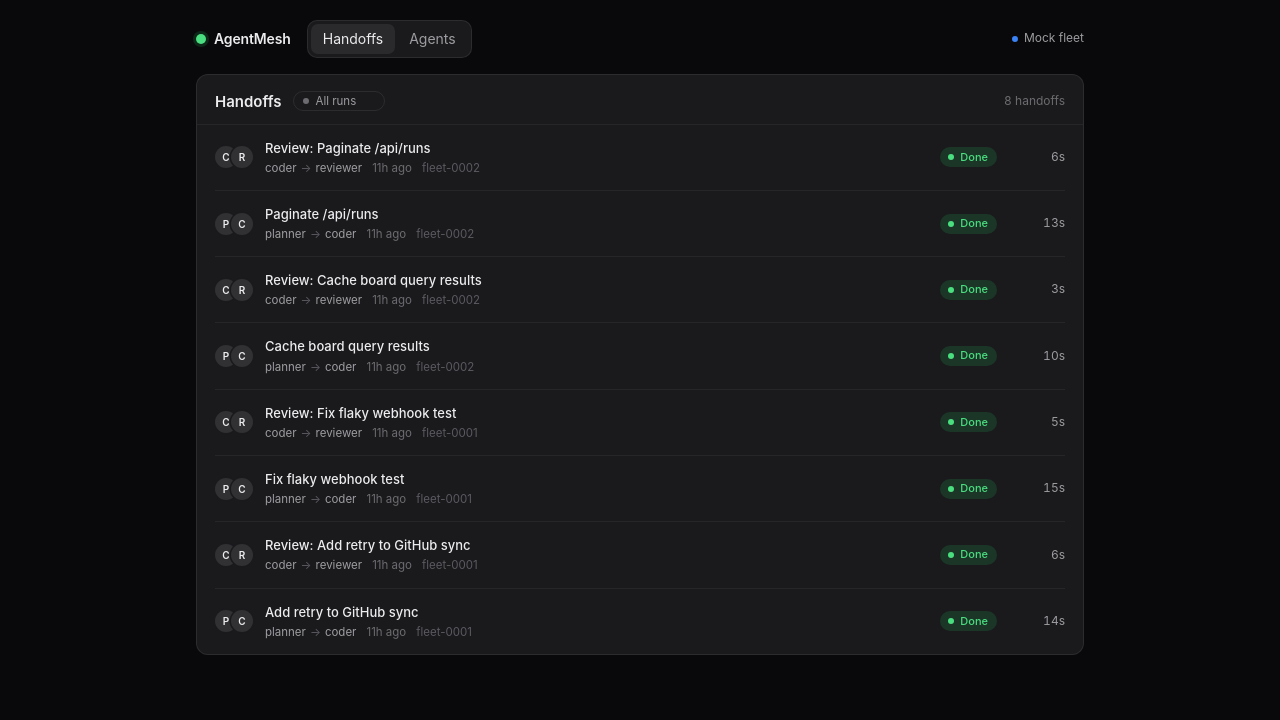
it: App on the mock fleet › lists handoffs, opens a run's span tree, and shows the agents board
Expected: the text "Mock fleet" is shown, [1012,30,1084,47]
Click the button named "Open run fleet-".
click(348, 148)  # box [215,125,1065,190]
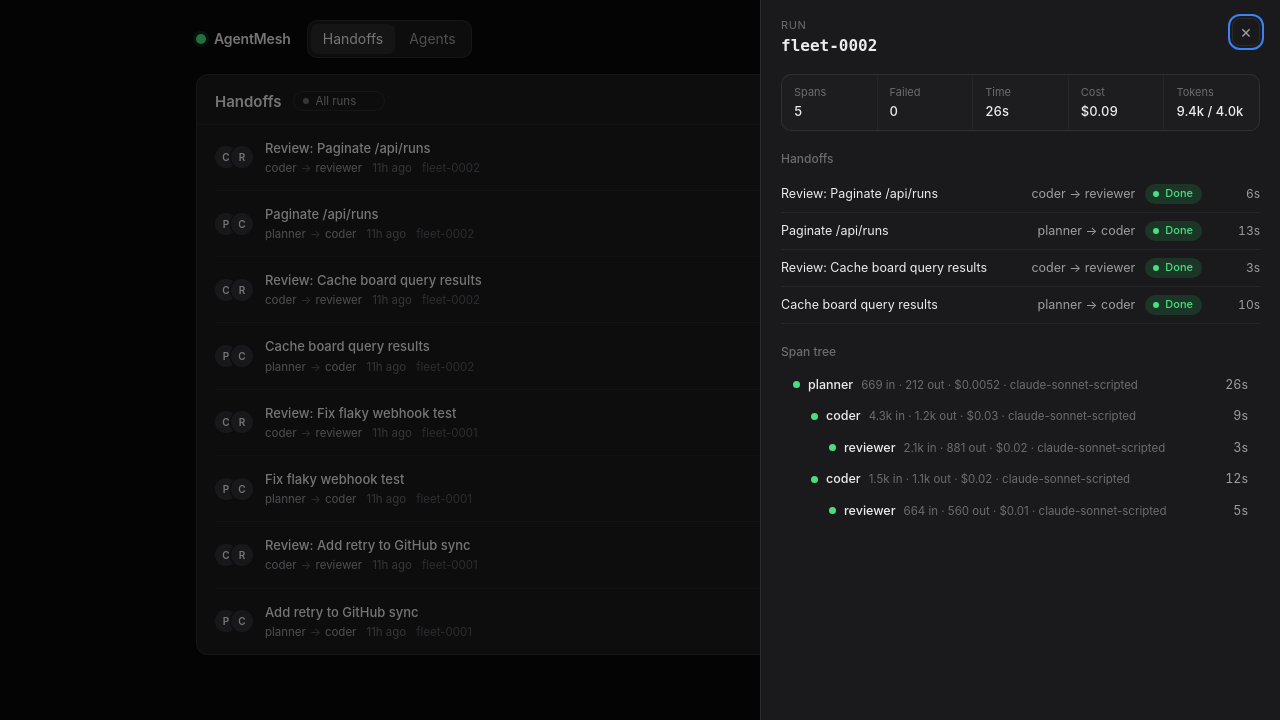
Expected: the heading "Span tree" is shown, [781,344,836,359]
Press Escape
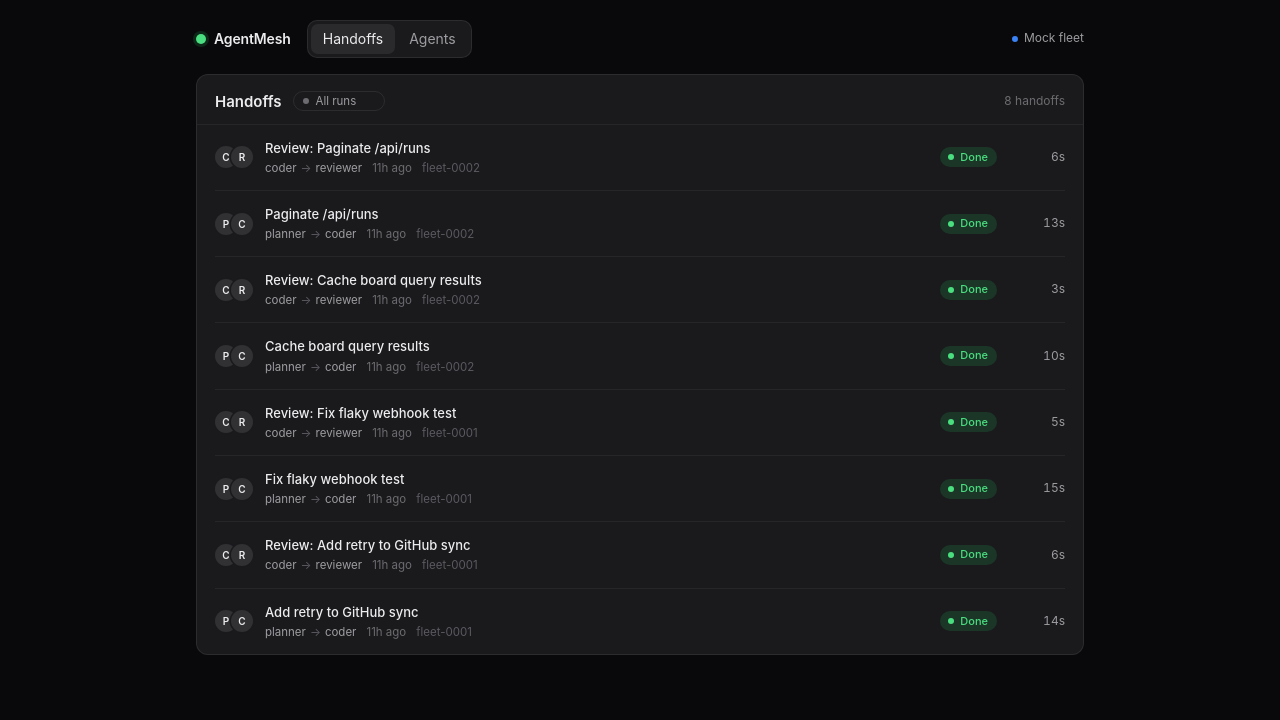
Expected: the dialog is gone
Click the button "Agents".
click(432, 39)  # box [397,24,468,54]
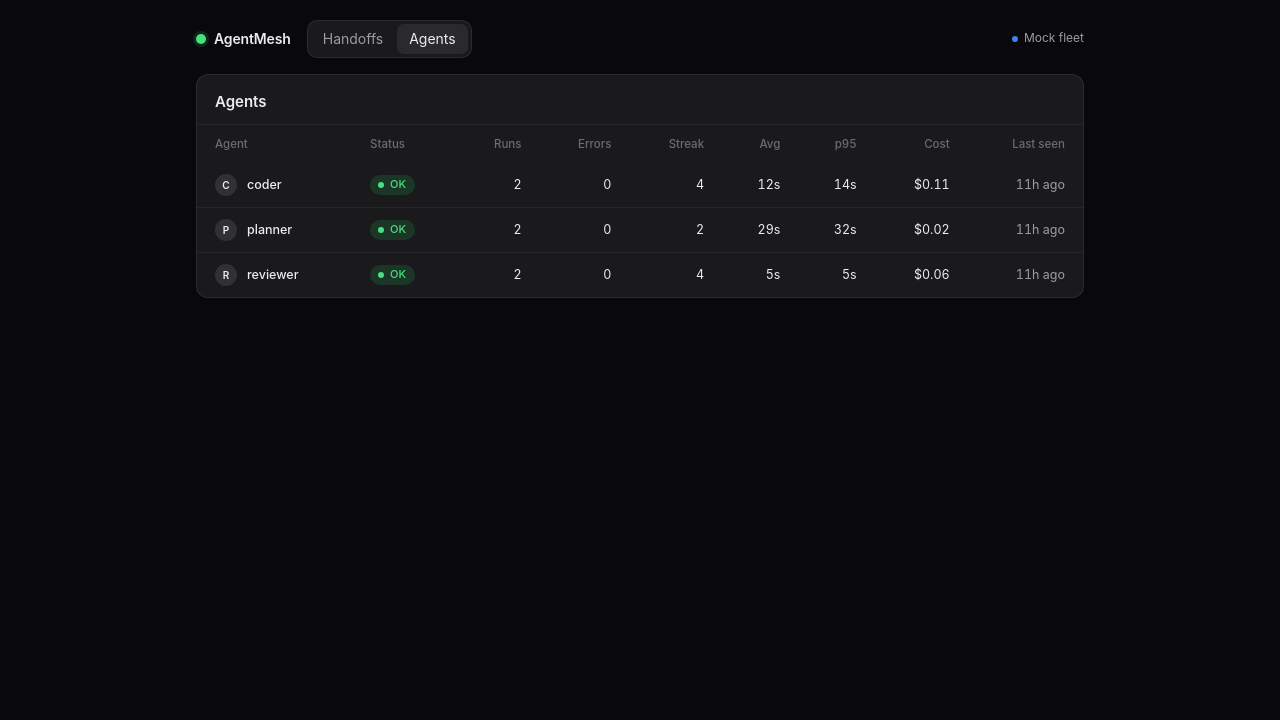
Expected: the text "reviewer" is shown, [247,267,298,282]
Expected: the number of rows is 4, [197,125,1083,163]; [197,163,1083,207]; [197,207,1083,252]; [197,252,1083,297]
